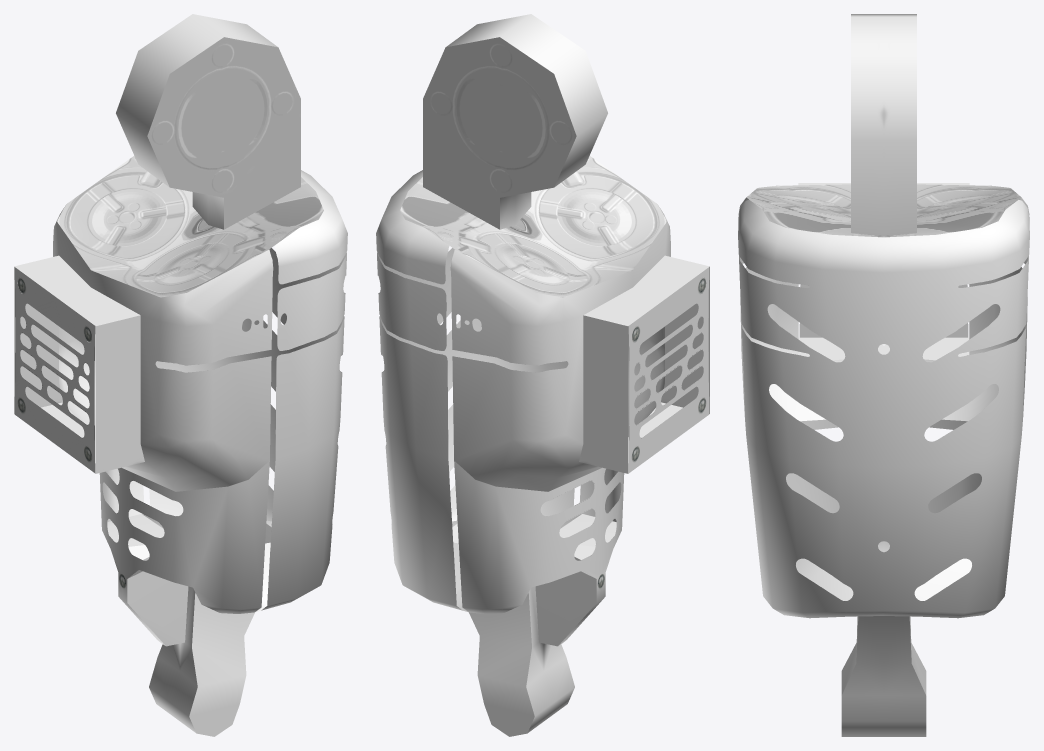
The model's file is lj4_Right.dae.
The picture shows the model from 3 angles, left to right: view 1: azimuth 30°, elevation 25°; view 2: azimuth 150°, elevation 25°; view 3: azimuth 270°, elevation 25°; orthographic projection. The views are drawn at different scales.
Visible parts, largest first — view 1: Cylinder_001; view 2: Cylinder_001; view 3: Cylinder_001.
Part boxes in pixels (bbox=[...]): Cylinder_001: bbox=[14, 14, 347, 736]; Cylinder_001: bbox=[376, 14, 709, 736]; Cylinder_001: bbox=[738, 14, 1029, 736].
Size of the model in its own units: 0.19 by 0.1751 by 0.4806.
1 material, 1 textured.
